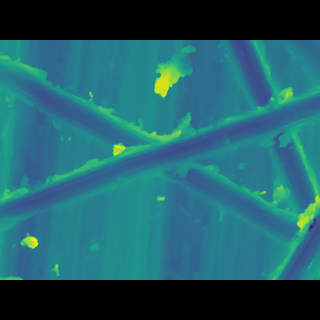Loch: (0, 82, 320, 224), (0, 106, 320, 216), (220, 69, 320, 202)
